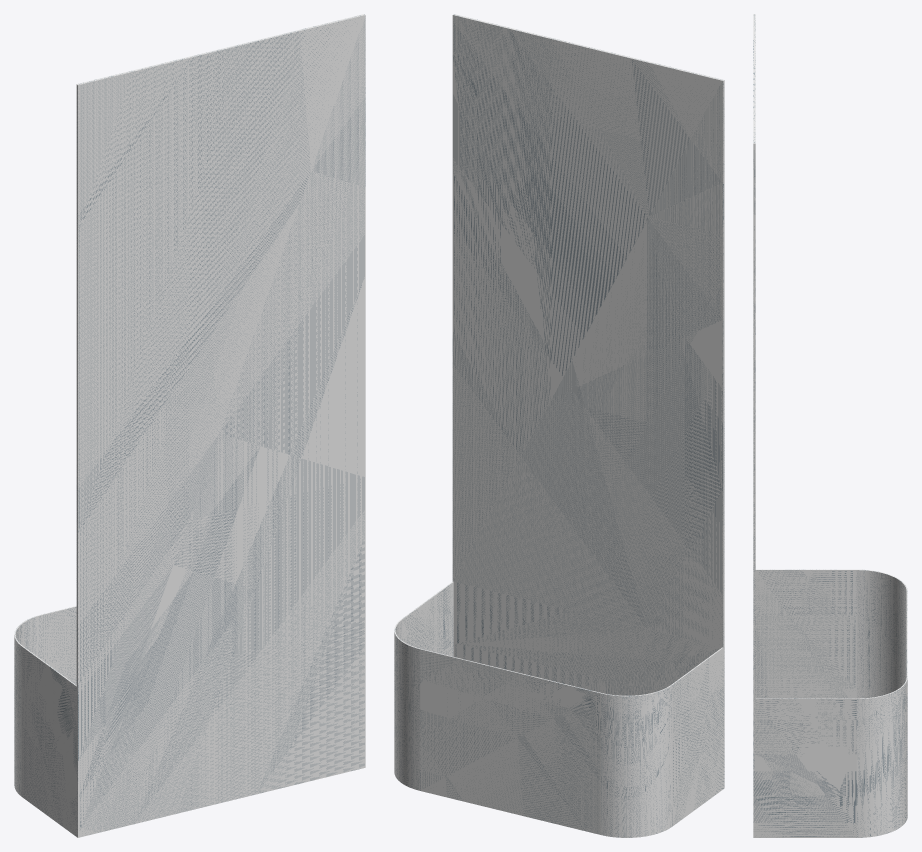
File: 08_IconicBox_1_300-0x750-0x151-3.dae
3 renders of one model, left to right at view 1: azimuth 30°, elevation 25°; view 2: azimuth 150°, elevation 25°; view 3: azimuth 270°, elevation 25°, orthographic. The views are drawn at different scales.
Visible parts, largest first — view 1: SketchUp; view 2: SketchUp; view 3: SketchUp.
Boxes of the visible parts, x1=… form: SketchUp: x1=14, y1=14, x2=365, y2=837; SketchUp: x1=394, y1=14, x2=724, y2=837; SketchUp: x1=753, y1=14, x2=907, y2=837.
Size of the model in its own units: 11.81 by 5.96 by 29.53.
